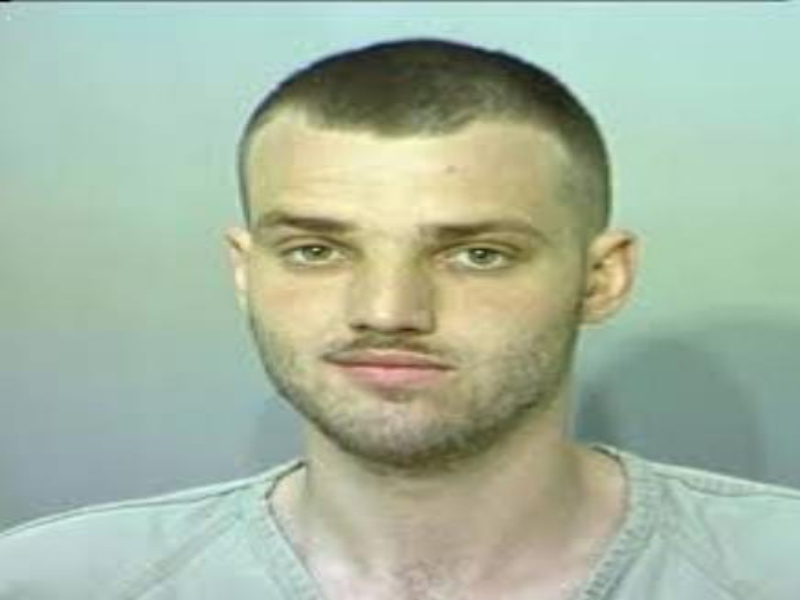TsisyArotava: (210, 84, 661, 471)
